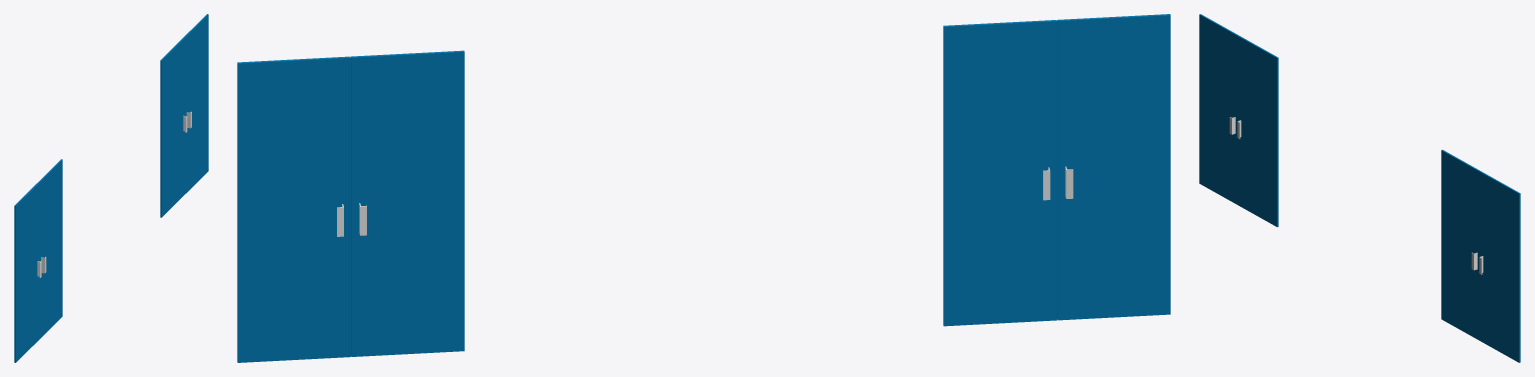
File: rac_basic_sample_project_Level_1_Living_Rm_IfcDoor.dae
3 renders of one model, left to right at view 1: azimuth 30°, elevation 25°; view 2: azimuth 150°, elevation 25°; view 3: azimuth 270°, elevation 25°, orthographic. The views are drawn at different scales.
Parts seen in each view (by area): view 1: 1LMg1ZkATBJwu7hODVWkYb, 1LMg1ZkATBJwu7hODVWkYl; view 2: 1LMg1ZkATBJwu7hODVWkYb, 1LMg1ZkATBJwu7hODVWkYl; view 3: 1LMg1ZkATBJwu7hODVWkYb, 1LMg1ZkATBJwu7hODVWkYl.
Boxes of the visible parts, x1,y1,x2,y2 form: 1LMg1ZkATBJwu7hODVWkYb: [160, 14, 208, 217]; 1LMg1ZkATBJwu7hODVWkYl: [14, 159, 62, 362]; 1LMg1ZkATBJwu7hODVWkYb: [237, 50, 464, 362]; 1LMg1ZkATBJwu7hODVWkYl: [943, 14, 1170, 326]; 1LMg1ZkATBJwu7hODVWkYb: [1441, 149, 1520, 362]; 1LMg1ZkATBJwu7hODVWkYl: [1199, 14, 1278, 227].
Size of the model in its own units: 4.74 by 3.58 by 2.08.
